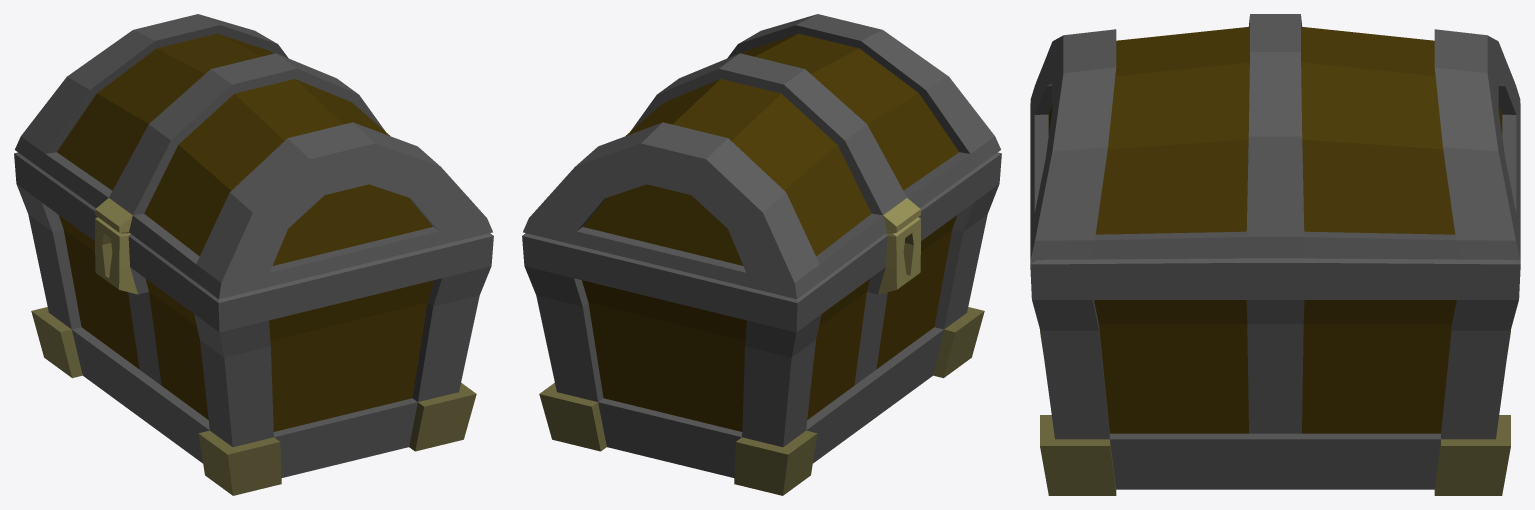
The model's file is Chest.FBX.
3 renders of one model, left to right at view 1: azimuth 30°, elevation 25°; view 2: azimuth 150°, elevation 25°; view 3: azimuth 270°, elevation 25°, orthographic. The views are drawn at different scales.
Visible parts, largest first — view 1: Treasure_Chest; view 2: Treasure_Chest; view 3: Treasure_Chest.
Part boxes in pixels (x1,y1,x2,y2): Treasure_Chest: (14, 14, 493, 495); Treasure_Chest: (522, 14, 1001, 495); Treasure_Chest: (1030, 14, 1520, 495).
Size of the model in its own units: 1.8 by 2 by 2.25.
